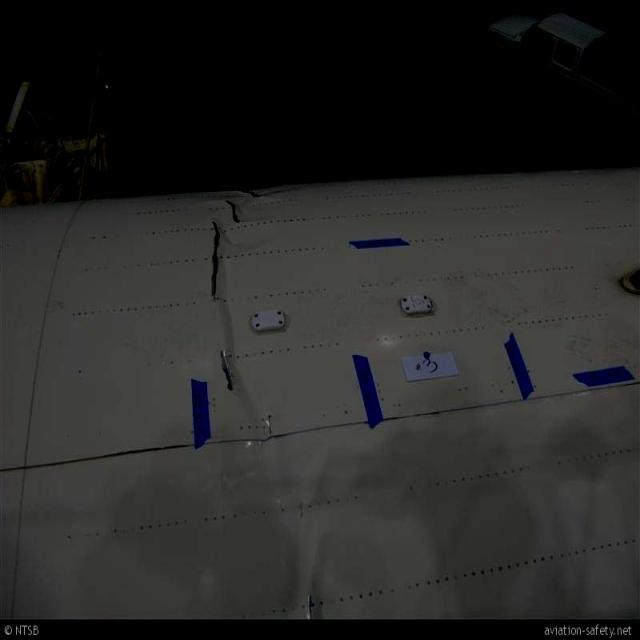crack: (207, 218, 228, 302), (225, 201, 245, 229)
